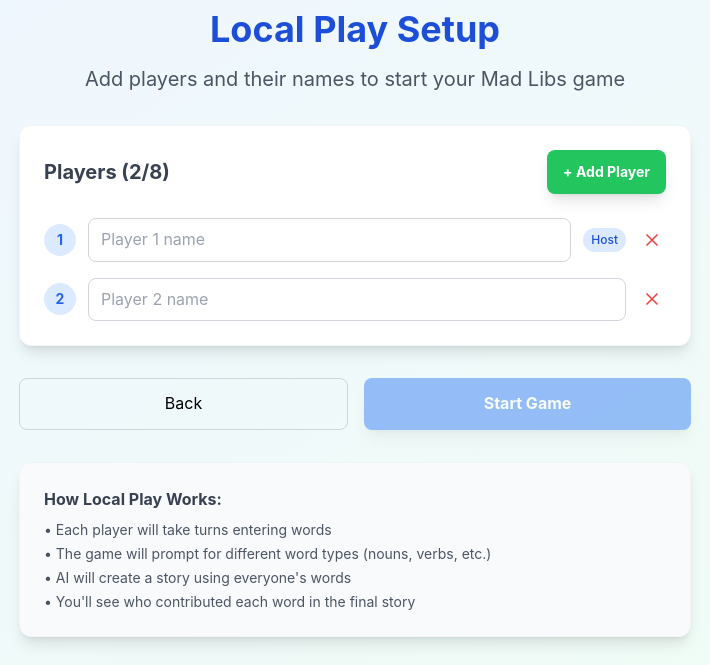
Test case: LocalPlaySetup › enables Start Game button when player names are filled
Check: the button "Start Game" is disabled, box left=364, top=378, right=691, bottom=430
Note: Add player names
Type "Alice" into the field with placeholder "Player 1 name" at (330, 240), box left=88, top=218, right=571, bottom=262
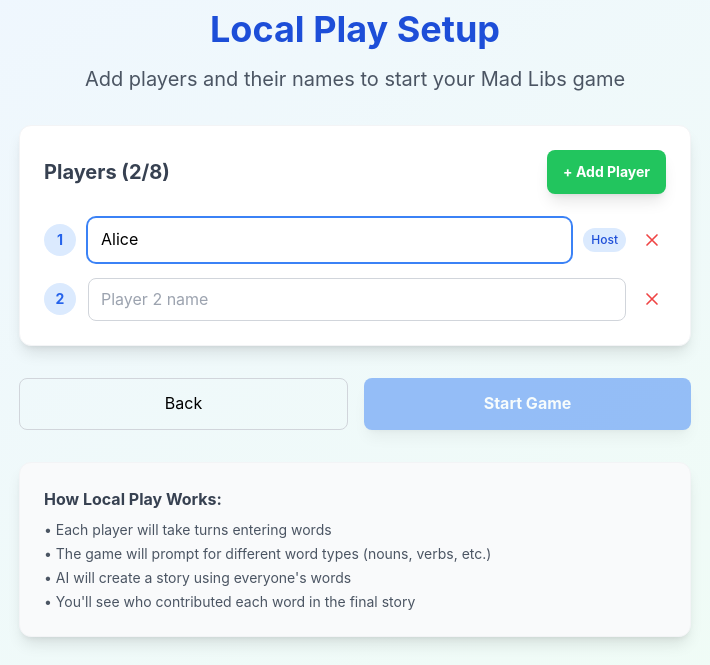
Type "Bob" into the field with placeholder "Player 2 name" at (357, 299), box left=88, top=278, right=626, bottom=321
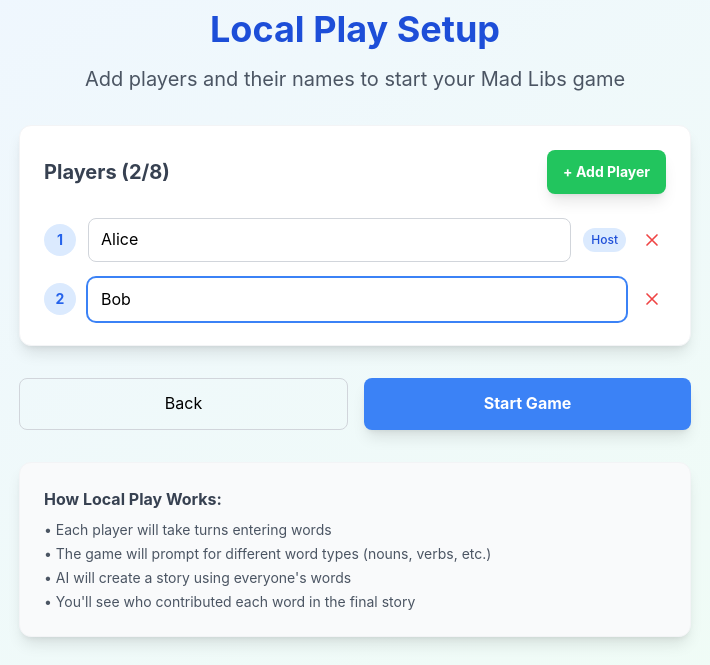
Check: the button "Start Game" is enabled, box left=364, top=378, right=691, bottom=430
